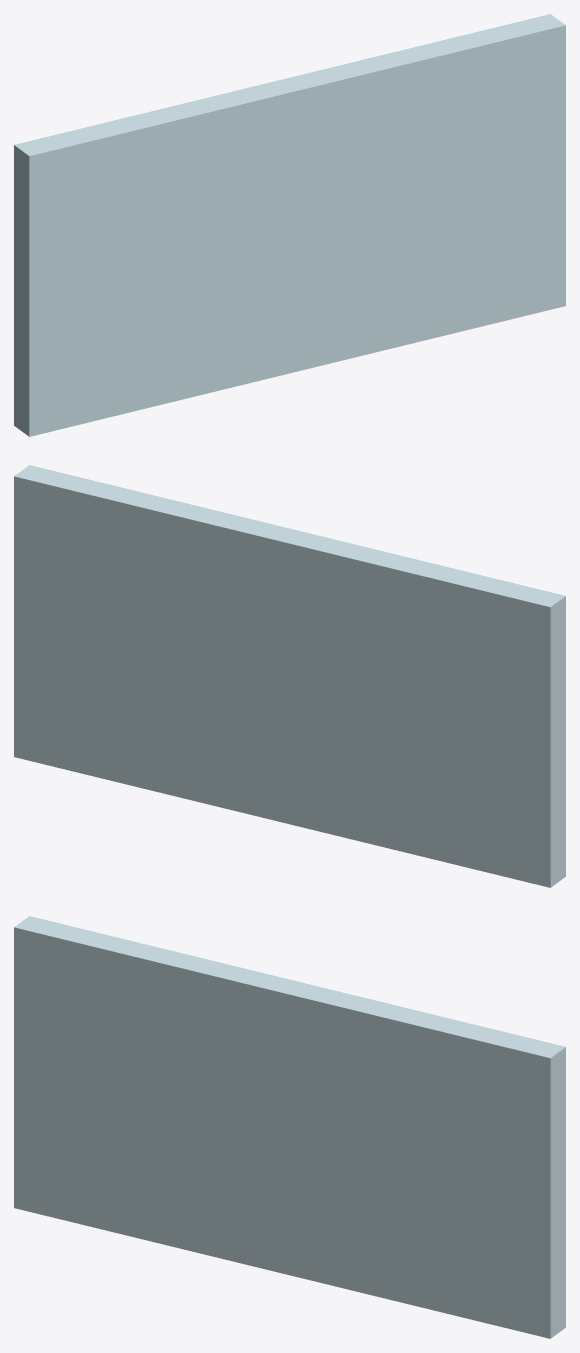
File: board.glb
3 renders of one model, top to bottom at view 1: azimuth 30°, elevation 25°; view 2: azimuth 150°, elevation 25°; view 3: azimuth 330°, elevation 25°, orthographic.
Parts seen in each view (by area): view 1: Substrate_Layer_0; view 2: Substrate_Layer_0; view 3: Substrate_Layer_0.
Part boxes in pixels (box(x1,y1,x2,y2)): Substrate_Layer_0: box(14, 14, 565, 436); Substrate_Layer_0: box(14, 465, 565, 887); Substrate_Layer_0: box(14, 916, 565, 1338).
Bounding box in the file's own units: 0.06 × 0.03 × 0.003.
